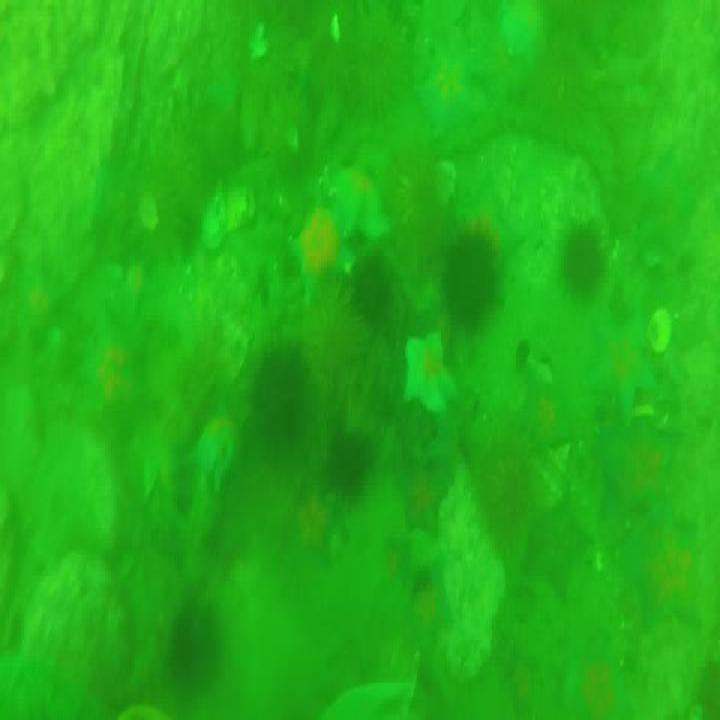echinus: (247, 343, 301, 459), (445, 222, 495, 334), (169, 592, 222, 690), (564, 229, 606, 295), (325, 436, 370, 492), (357, 251, 392, 311)
holothurian: (313, 311, 400, 409)
scallop: (648, 302, 674, 354), (137, 196, 158, 231)
starfish: (575, 310, 665, 414), (407, 37, 490, 139), (286, 202, 366, 300), (519, 496, 587, 596), (614, 496, 664, 620), (333, 150, 391, 255), (398, 338, 456, 416)
